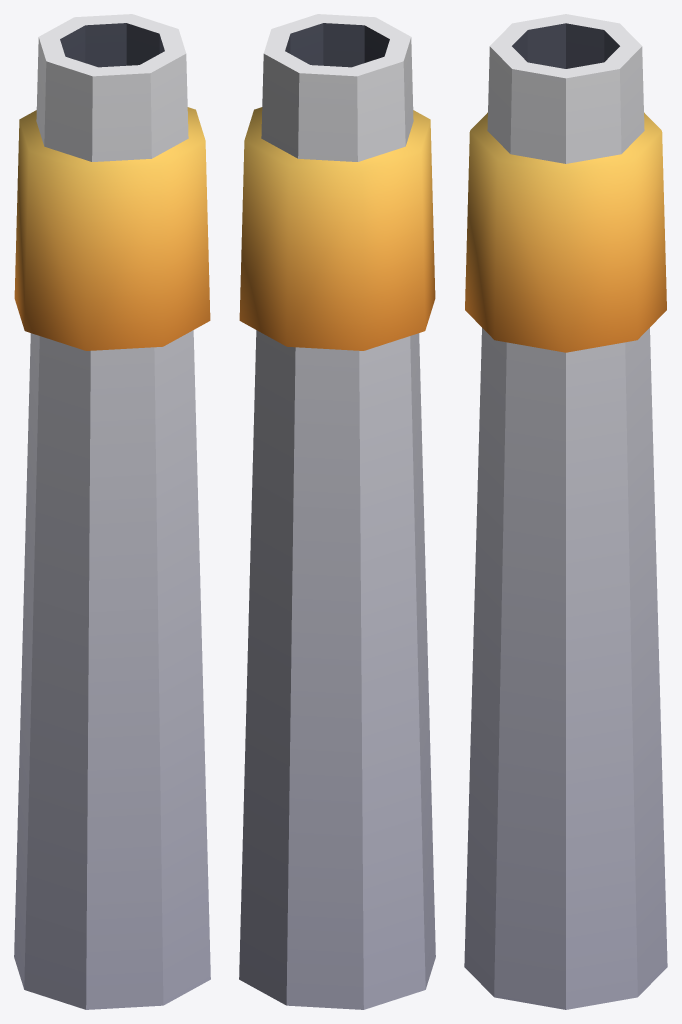
Rendered from kenney-industrial_chimney-basic.glb.
The picture shows the model from 3 angles, left to right: view 1: azimuth 30°, elevation 25°; view 2: azimuth 150°, elevation 25°; view 3: azimuth 270°, elevation 25°; orthographic projection.
Parts seen in each view (by area): view 1: chimney-basic; view 2: chimney-basic; view 3: chimney-basic.
Part boxes in pixels (x1,y1,x2,y2): chimney-basic: (14, 14, 210, 1009); chimney-basic: (239, 14, 435, 1009); chimney-basic: (464, 14, 667, 1009).
Bounding box in the file's own units: 0.2 × 1 × 0.2.
Materials: 1 (1 with a texture image).
